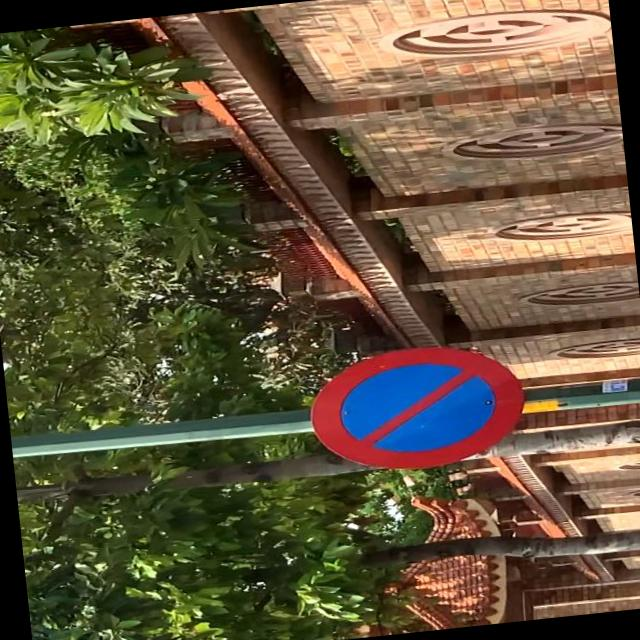P-131a: (304, 338, 528, 481)
